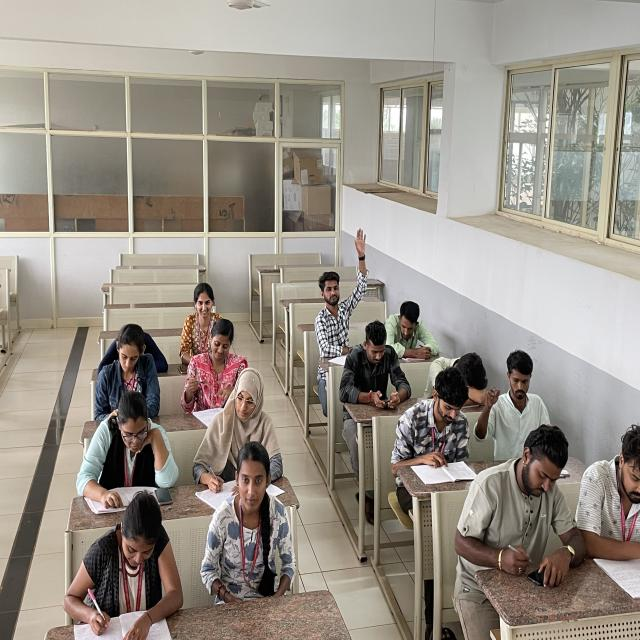Hand Rising: (314, 220, 373, 361)
Reading: (393, 374, 479, 482), (87, 390, 157, 512)
Sleeping: (421, 341, 500, 401)
Using Phone: (344, 324, 411, 418)
Writing: (77, 492, 184, 640), (190, 365, 289, 516)
